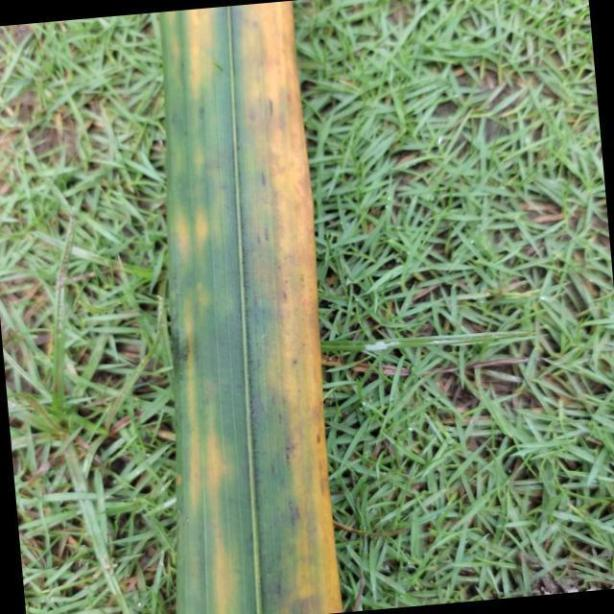Megnesium: (155, 0, 341, 614)
